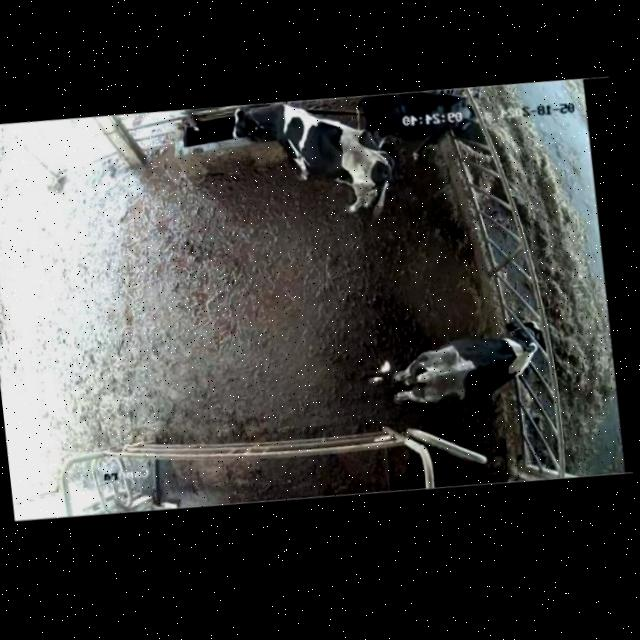drink: (213, 94, 291, 186)
eat: (480, 295, 586, 386), (411, 77, 526, 160)
